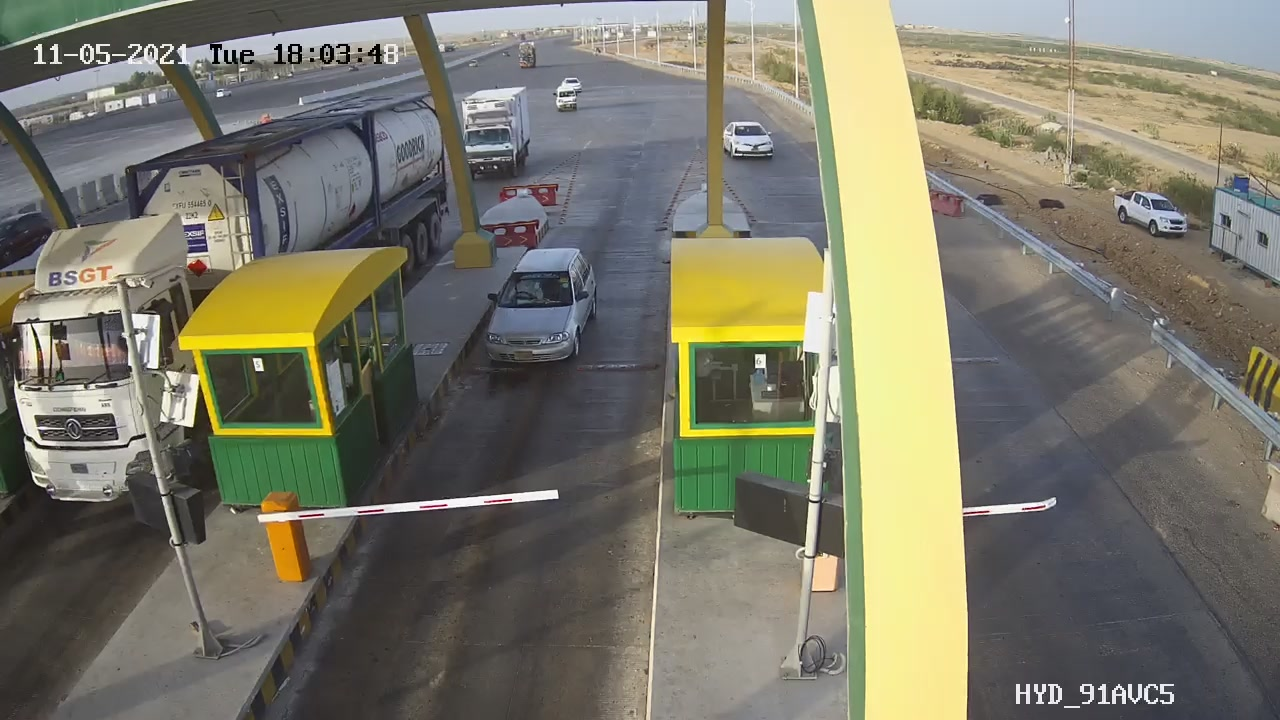F1: (456, 229, 620, 390)
